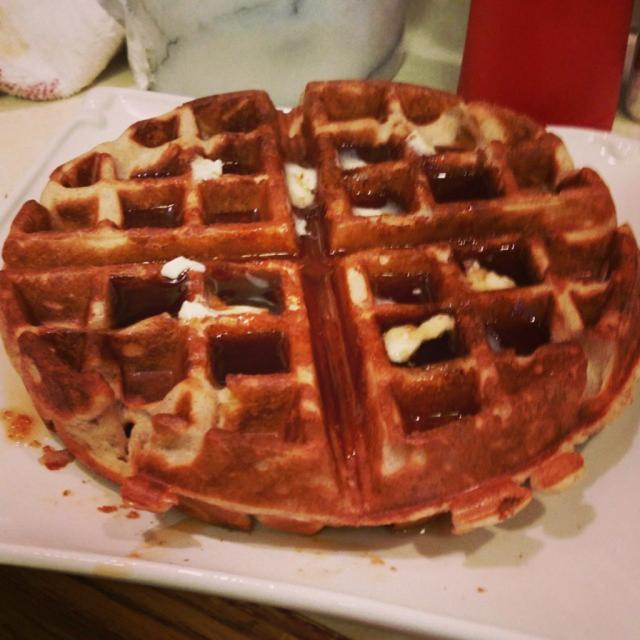Waffle: (0, 80, 639, 540)
